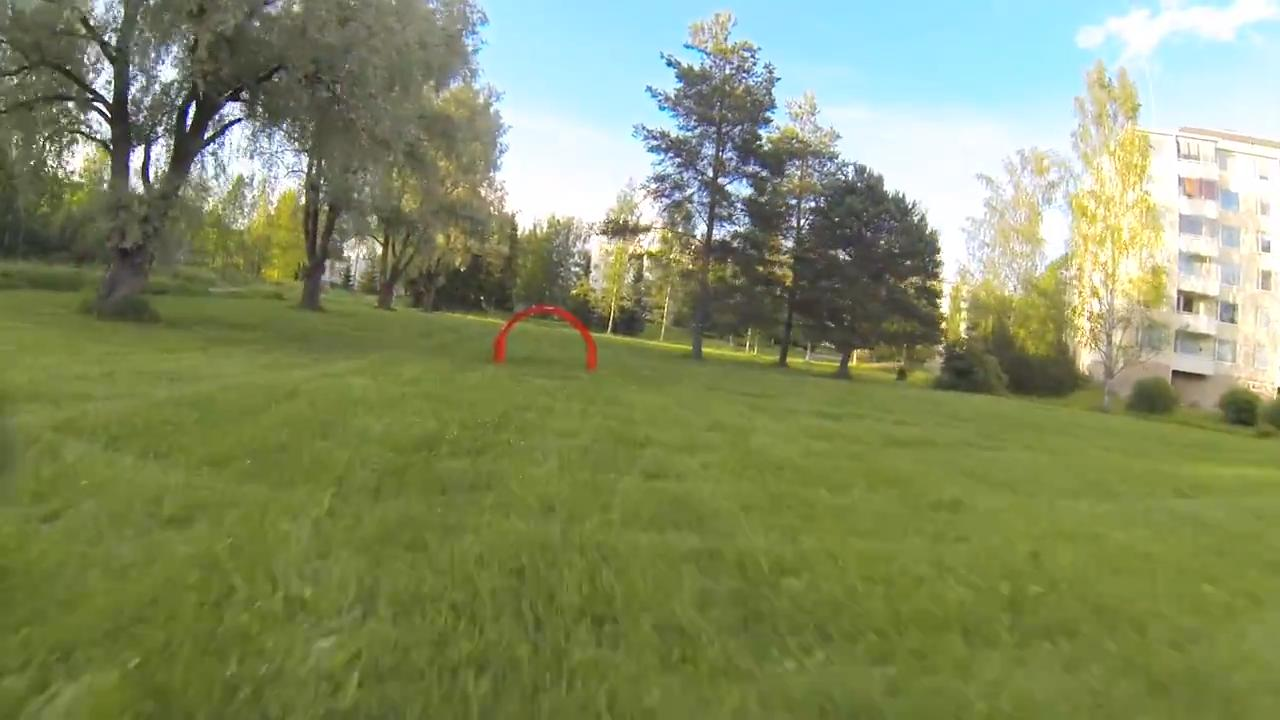gate: (490, 302, 602, 372)
